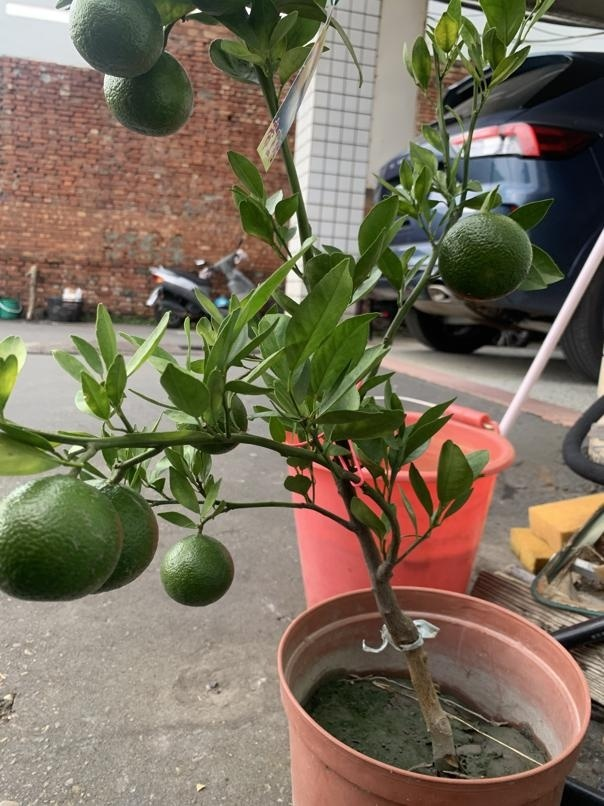Tangerine: (2, 466, 146, 600), (435, 208, 534, 302), (69, 0, 170, 77), (158, 526, 236, 606)
